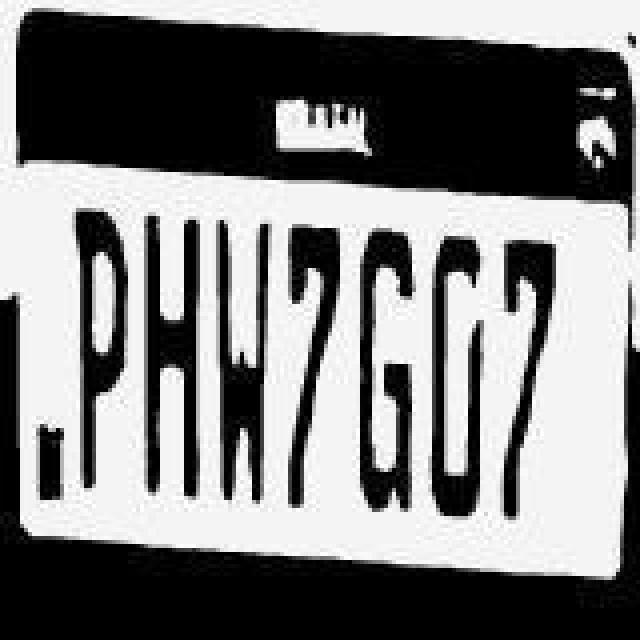7: (494, 232, 578, 528), (280, 222, 344, 514)
D: (426, 228, 494, 524)
G: (356, 226, 420, 510)
H: (138, 214, 214, 506)
P: (70, 204, 138, 492)
W: (218, 210, 278, 510)
